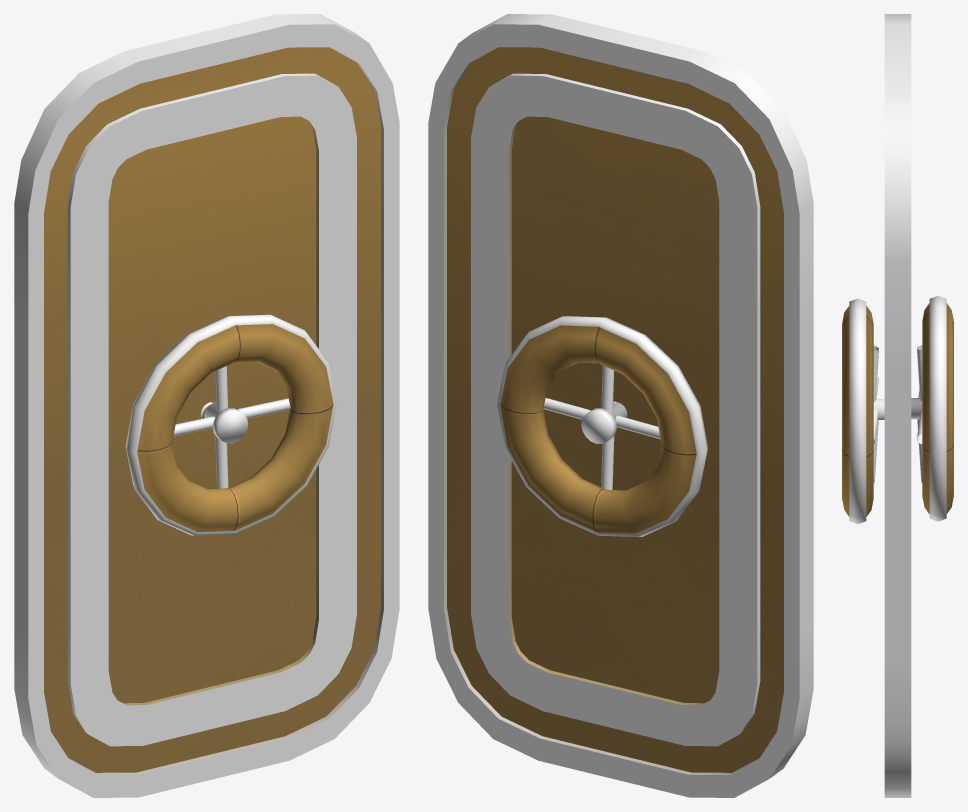
The model's file is Small_Bulkhead_Door_A.fbx.
3 views of the same model, side by side, from view 1: azimuth 30°, elevation 25°; view 2: azimuth 150°, elevation 25°; view 3: azimuth 270°, elevation 25° (orthographic). The views are drawn at different scales.
Visible parts, largest first — view 1: Small_Bulkhead_Door_A; view 2: Small_Bulkhead_Door_A; view 3: Small_Bulkhead_Door_A.
Boxes of the visible parts, x1=… form: Small_Bulkhead_Door_A: x1=14, y1=14, x2=399, y2=797; Small_Bulkhead_Door_A: x1=428, y1=14, x2=813, y2=797; Small_Bulkhead_Door_A: x1=842, y1=14, x2=953, y2=797.
Bounding box in the file's own units: 0.9756 × 1.85 × 0.2699.
